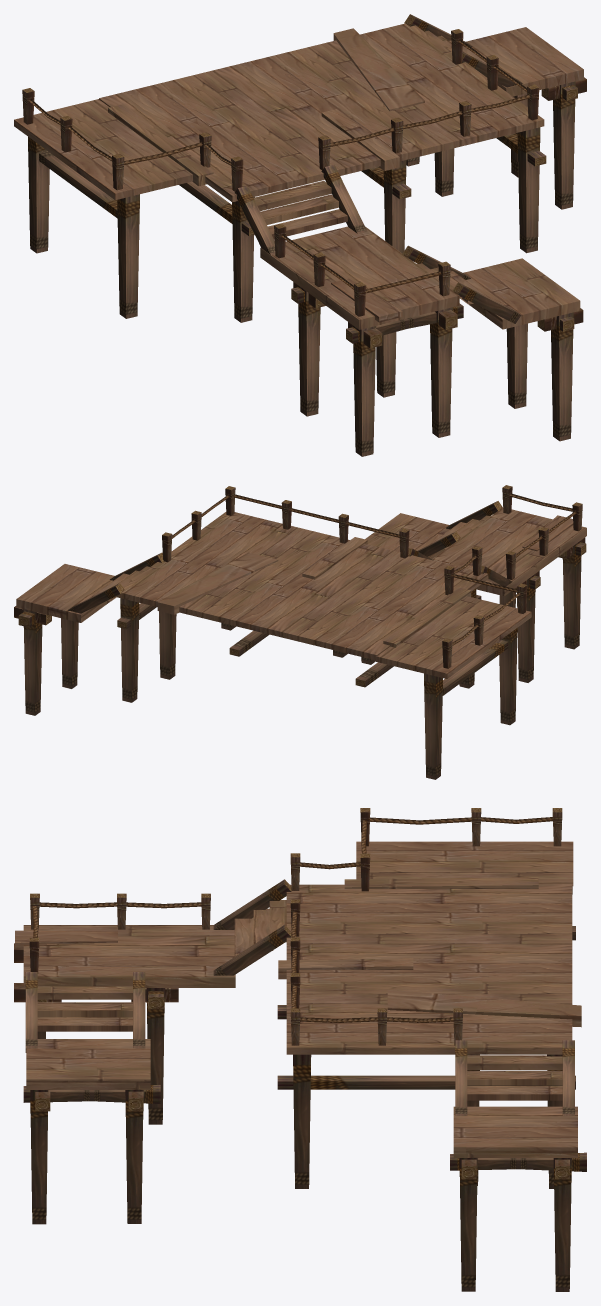
File: szc_object_matou01a.FBX
3 renders of one model, top to bottom at view 1: azimuth 30°, elevation 25°; view 2: azimuth 150°, elevation 25°; view 3: azimuth 270°, elevation 25°, orthographic. The views are drawn at different scales.
Parts seen in each view (by area): view 1: Box001; view 2: Box001; view 3: Box001.
Part boxes in pixels (box(x1,y1,x2,y2)): Box001: box(14, 14, 586, 456); Box001: box(14, 485, 586, 779); Box001: box(14, 808, 586, 1291).
Size of the model in its own units: 1691 by 748 by 1503.
